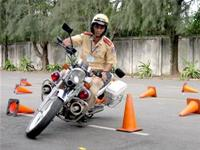police: (53, 12, 122, 123)
